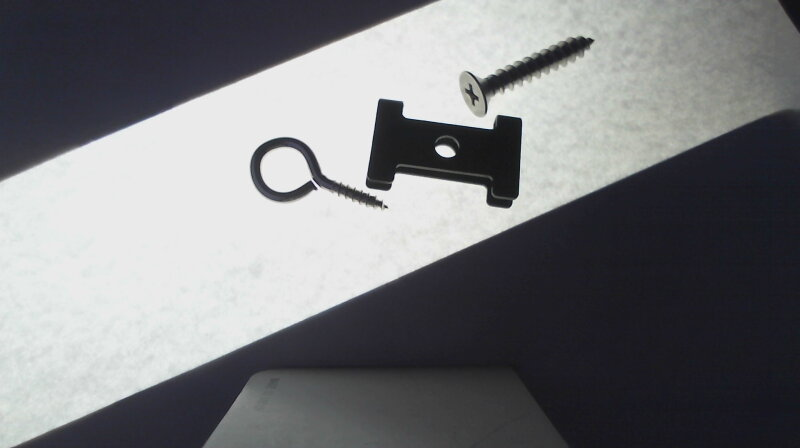O001: (249, 136, 391, 214)
O002: (365, 97, 523, 210)
S001: (456, 34, 596, 118)
